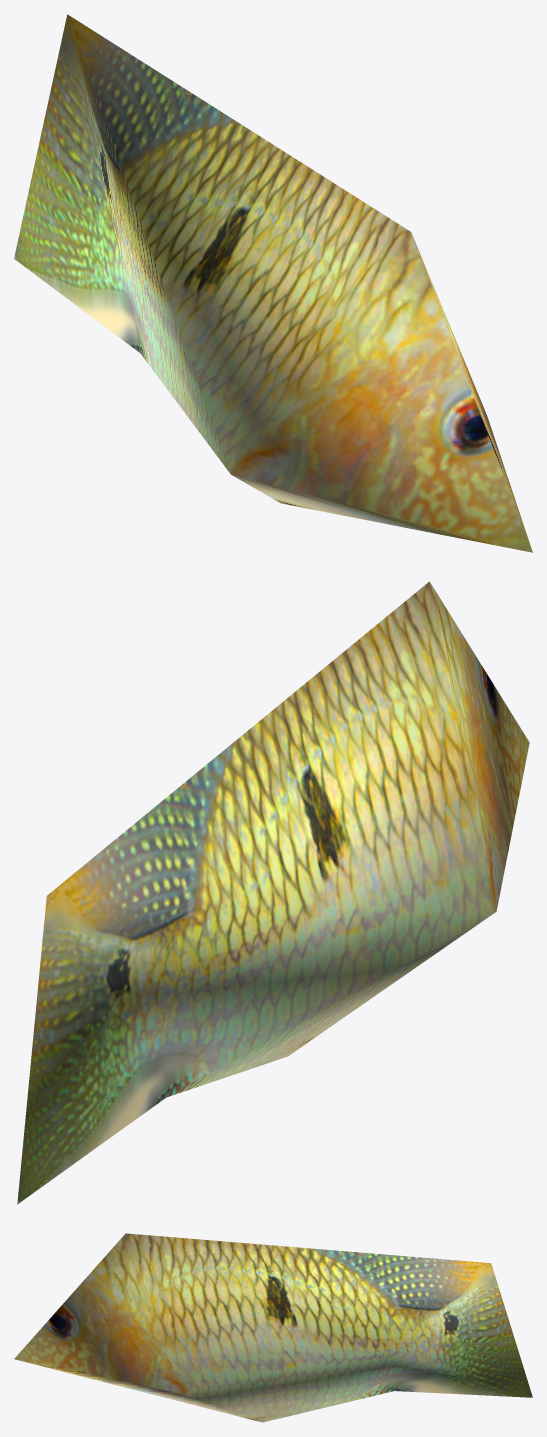
The model's file is TropicalFish03.fbx.
The picture shows the model from 3 angles, top to bottom: view 1: azimuth 30°, elevation 25°; view 2: azimuth 150°, elevation 25°; view 3: azimuth 270°, elevation 25°; orthographic projection. The views are drawn at different scales.
Visible parts, largest first — view 1: TropicalFish03_Export; view 2: TropicalFish03_Export; view 3: TropicalFish03_Export.
Part boxes in pixels (x1,y1,x2,y2): TropicalFish03_Export: (14, 14, 532, 552); TropicalFish03_Export: (17, 581, 529, 1204); TropicalFish03_Export: (14, 1233, 532, 1422).
Size of the model in its own units: 0.0838 by 0.1192 by 0.2981.
